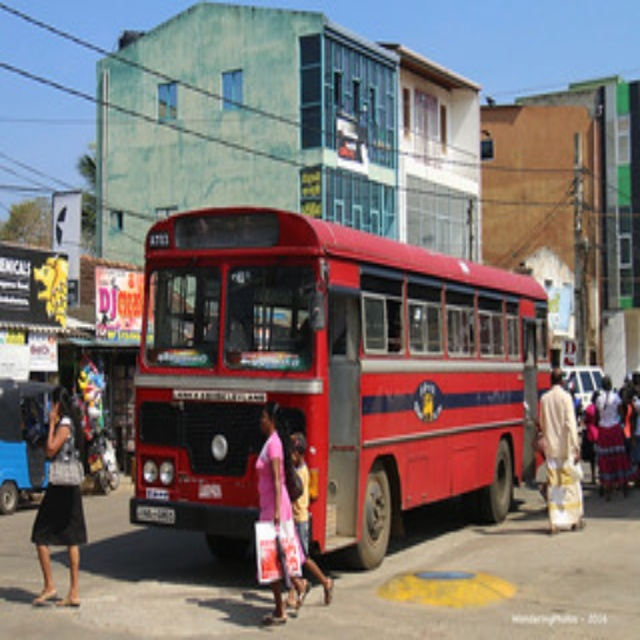Bus: (132, 205, 544, 571)
Motorcycle: (2, 377, 52, 513), (82, 427, 122, 496)
